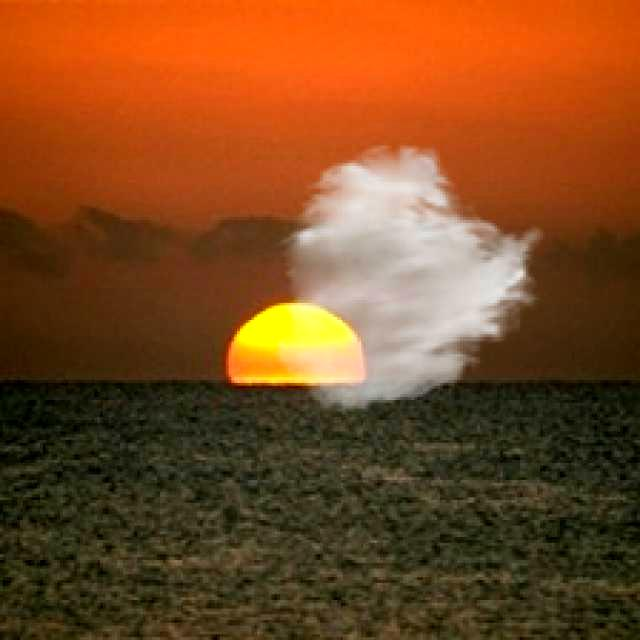no_helmet: (266, 140, 549, 414)
